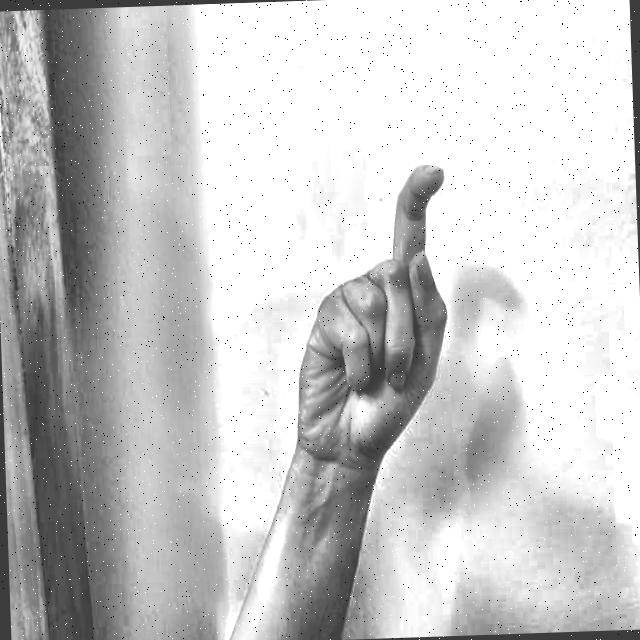E: (268, 121, 474, 482)
